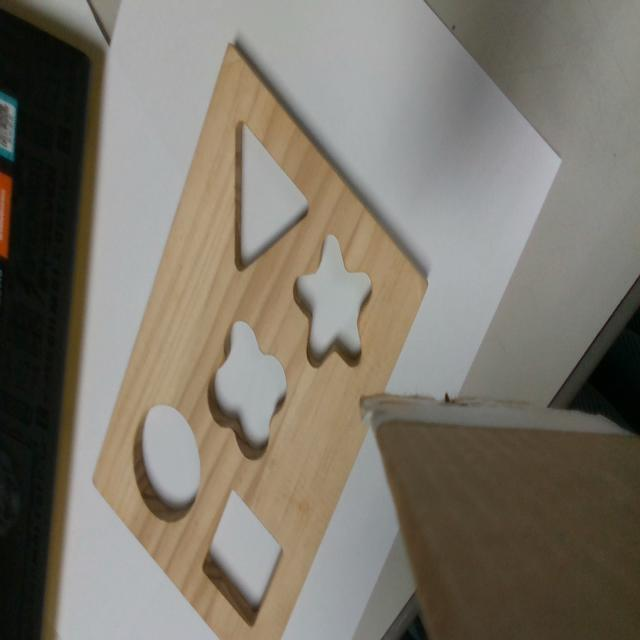circle: (130, 401, 200, 527)
flower: (209, 320, 286, 462)
square: (201, 489, 287, 627)
star: (291, 237, 374, 370)
triangle: (234, 117, 314, 273)
